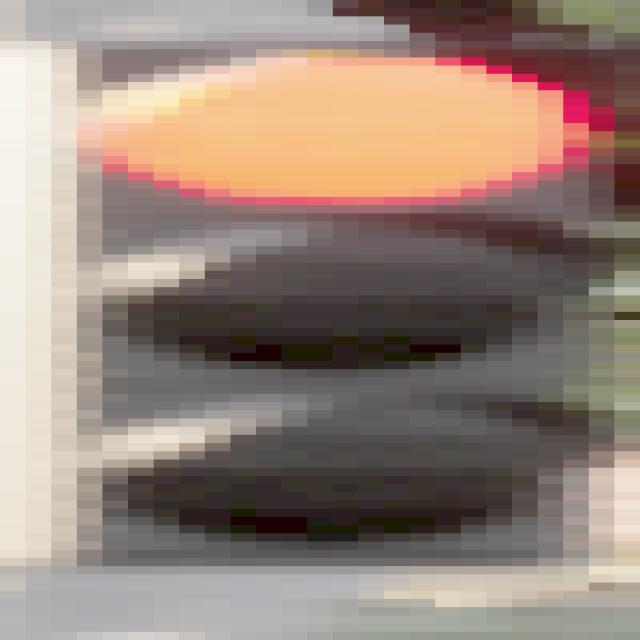red_light: (25, 40, 640, 574)
